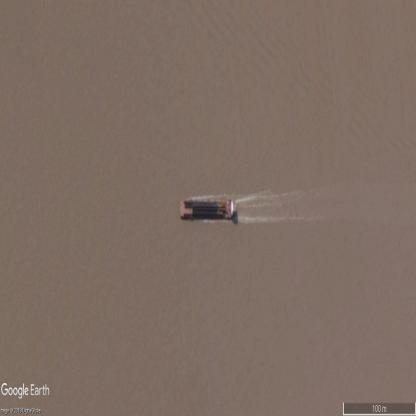ship: (180, 199, 238, 224)
